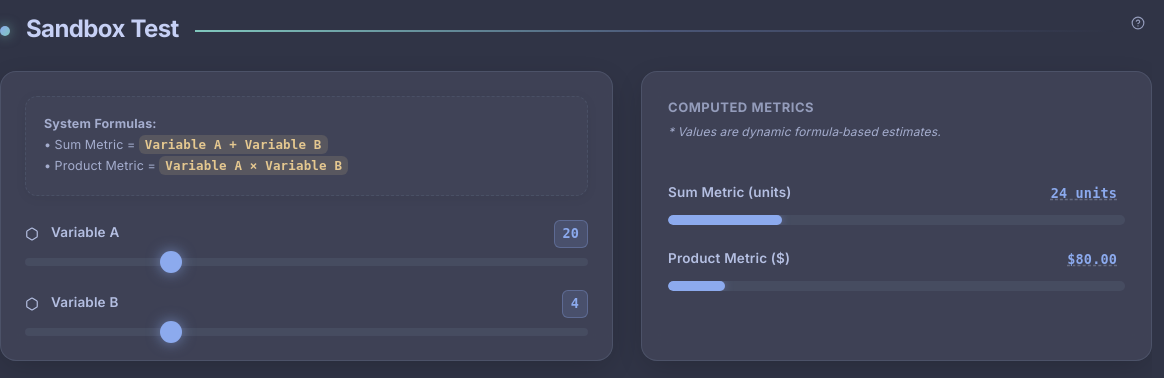
Test case: FormulaSandbox Component › updates metrics when sliders change
# Change value of slider A to 40
Step 1. Set the slider below "20" to "40" → (443, 262), box [25,258,588,266]
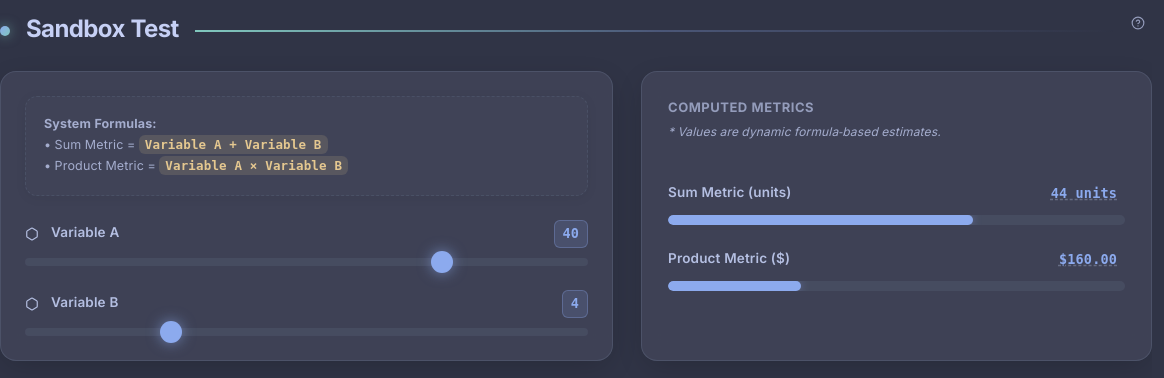
Now the button "44 units" is shown, box [1043,181,1125,206]
Now the button "$160.00" is shown, box [1051,247,1125,272]
